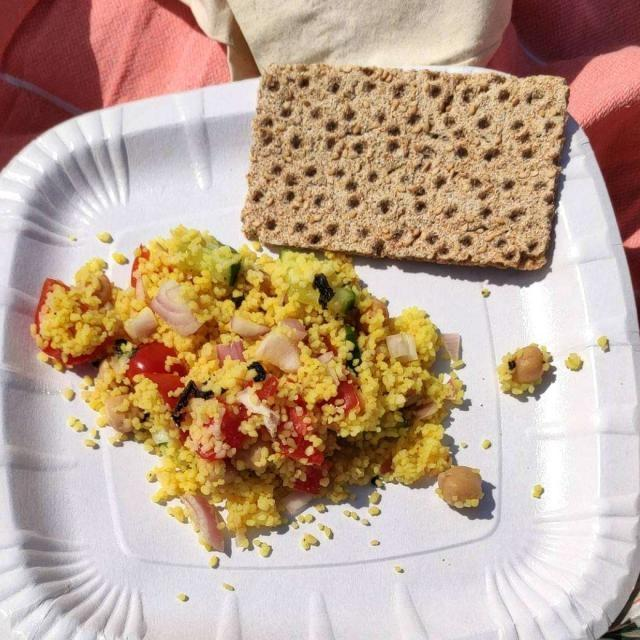bread: (249, 64, 563, 270)
taboule-prepared-with-couscous: (34, 234, 480, 545)
